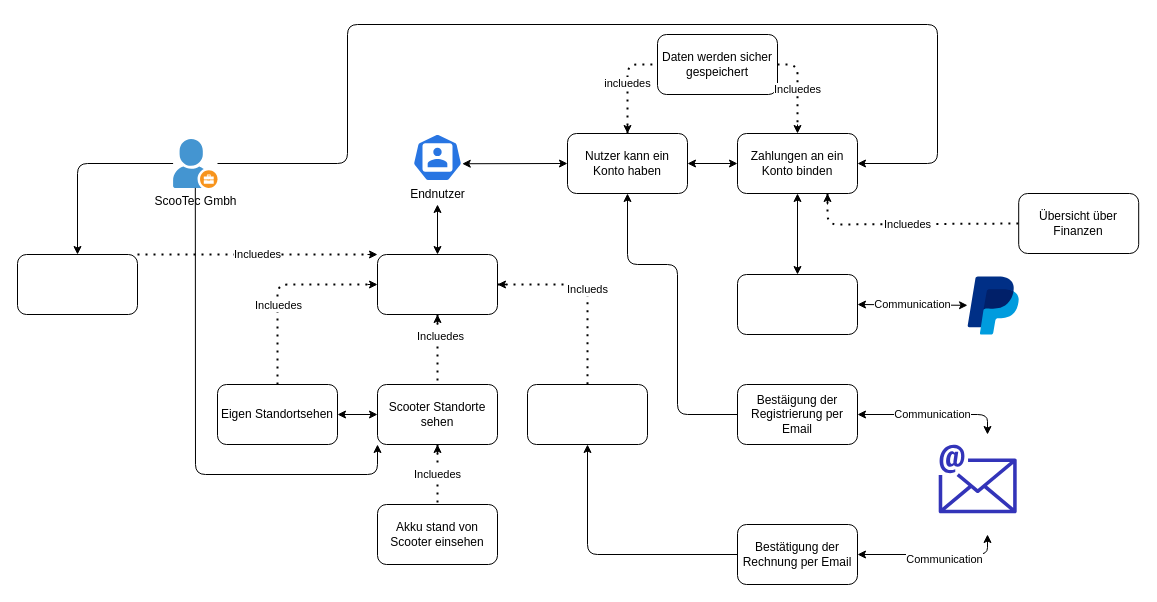
Image size: 1157x602. Some labels were removed from this diagram. Here are the shapes that lost their labels. From the top down, the box of each, then its label:
(16, 254, 138, 314): Hohe Kunden zufriedenheit
(376, 254, 498, 314): Scooter schnell und Unkompliziert Mieten
(736, 274, 858, 334): Schnelles und einfaches bezahlen
(526, 384, 648, 444): Fahrt schnell beenden ohne langes bezahlen
(938, 444, 1016, 513): Email System
